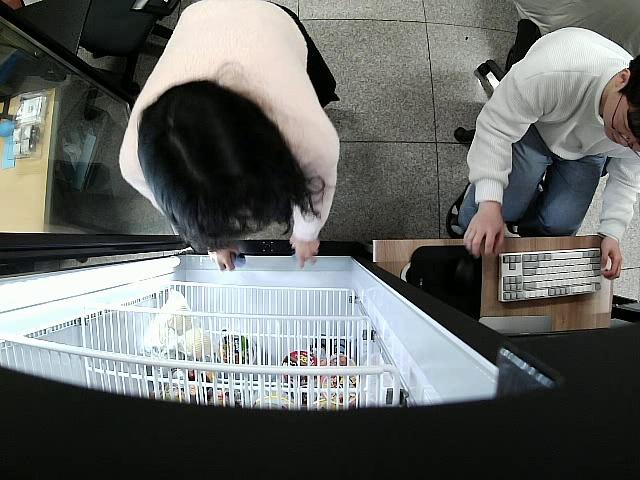00_hand: (462, 213, 505, 257), (210, 237, 245, 274), (287, 237, 322, 268)
